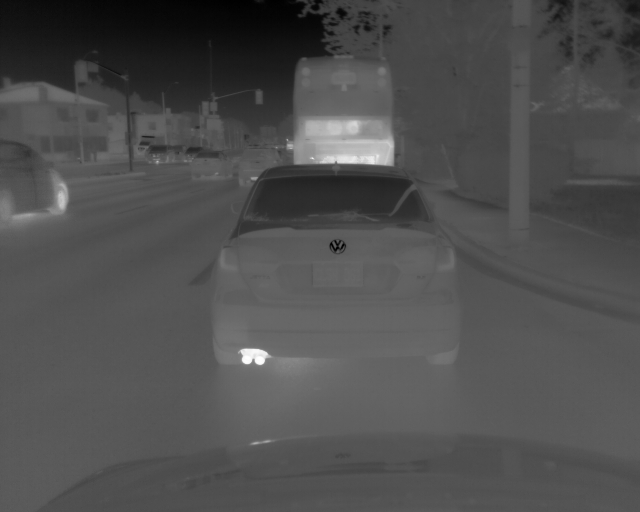car: (210, 162, 465, 371), (291, 56, 394, 168), (1, 139, 71, 226), (237, 148, 278, 185), (191, 150, 229, 179), (146, 144, 172, 165), (184, 145, 200, 163), (173, 145, 183, 162), (285, 136, 294, 151)
